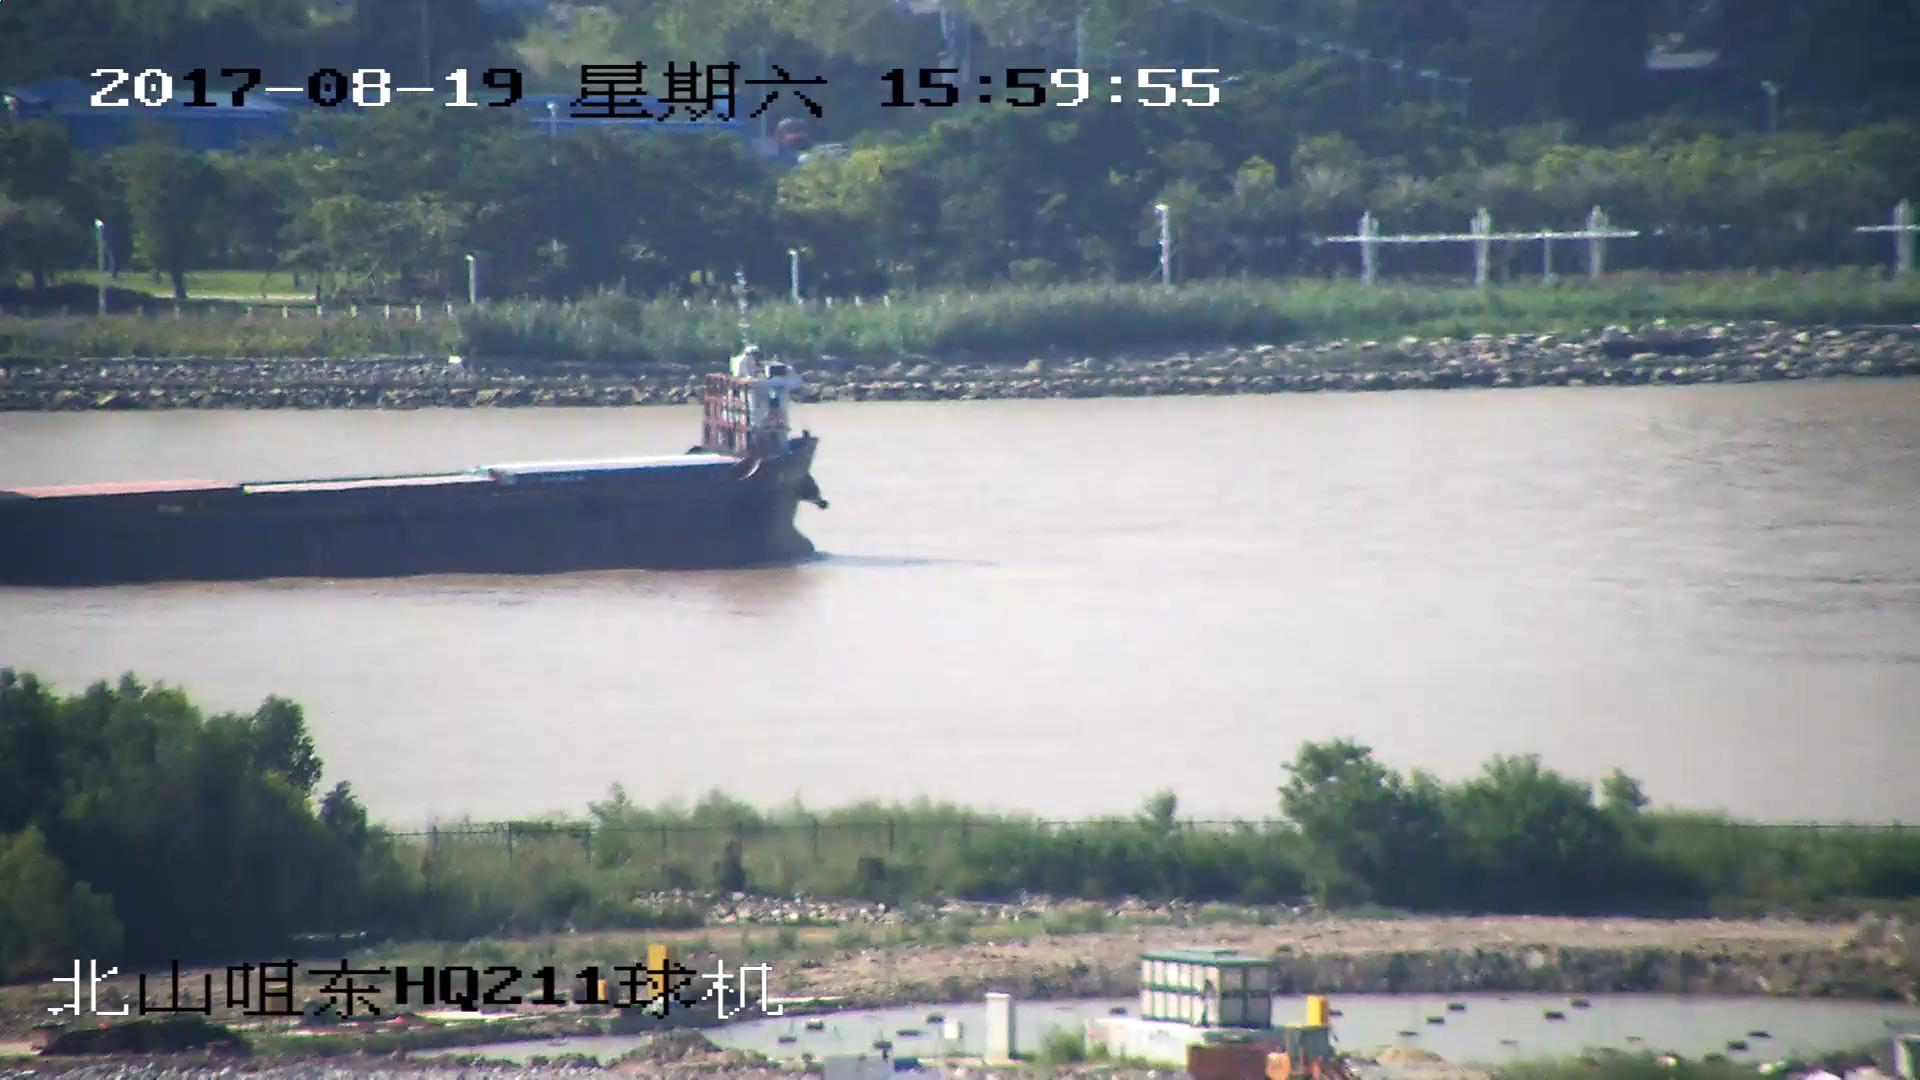Ship: (3, 334, 828, 585)
